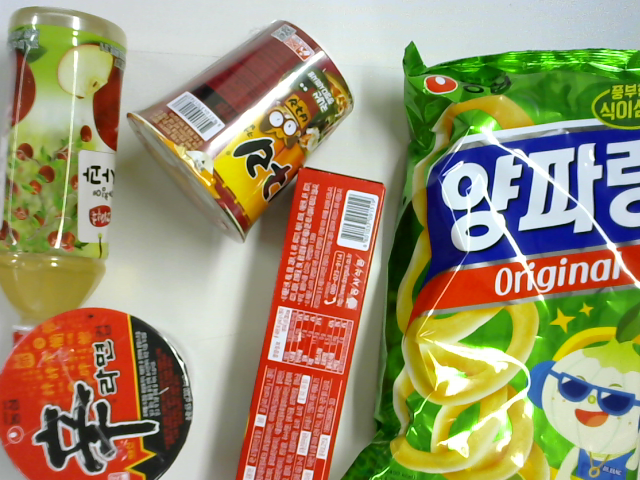Morning_Apple_500ml: (1, 4, 127, 350)
Oninon_Ring: (339, 40, 639, 479)
Raccoon: (127, 18, 354, 247)
Ritz_Cracker: (237, 167, 388, 480)
Sinramen_small: (2, 308, 195, 480)
